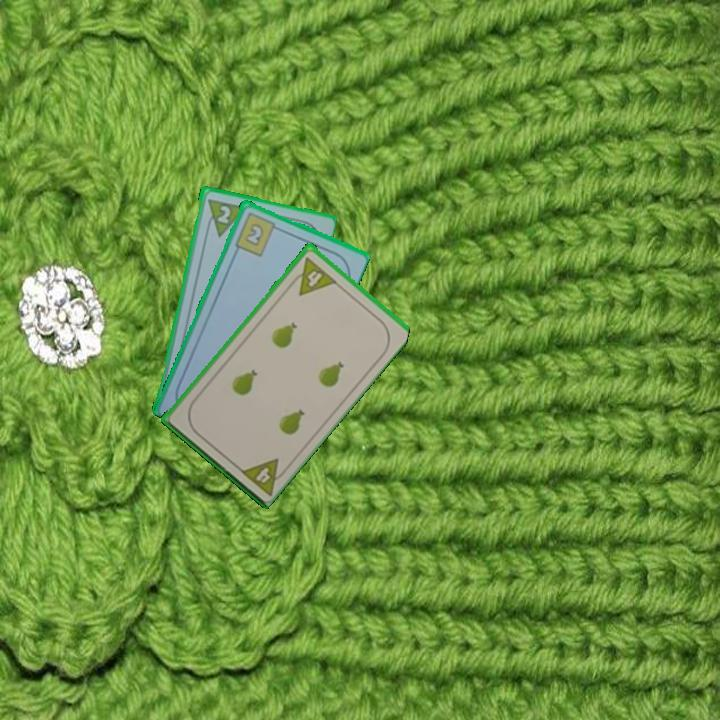2b: (231, 208, 283, 259)
2p: (201, 195, 247, 239)
4p: (236, 454, 292, 498), (286, 253, 339, 298)
